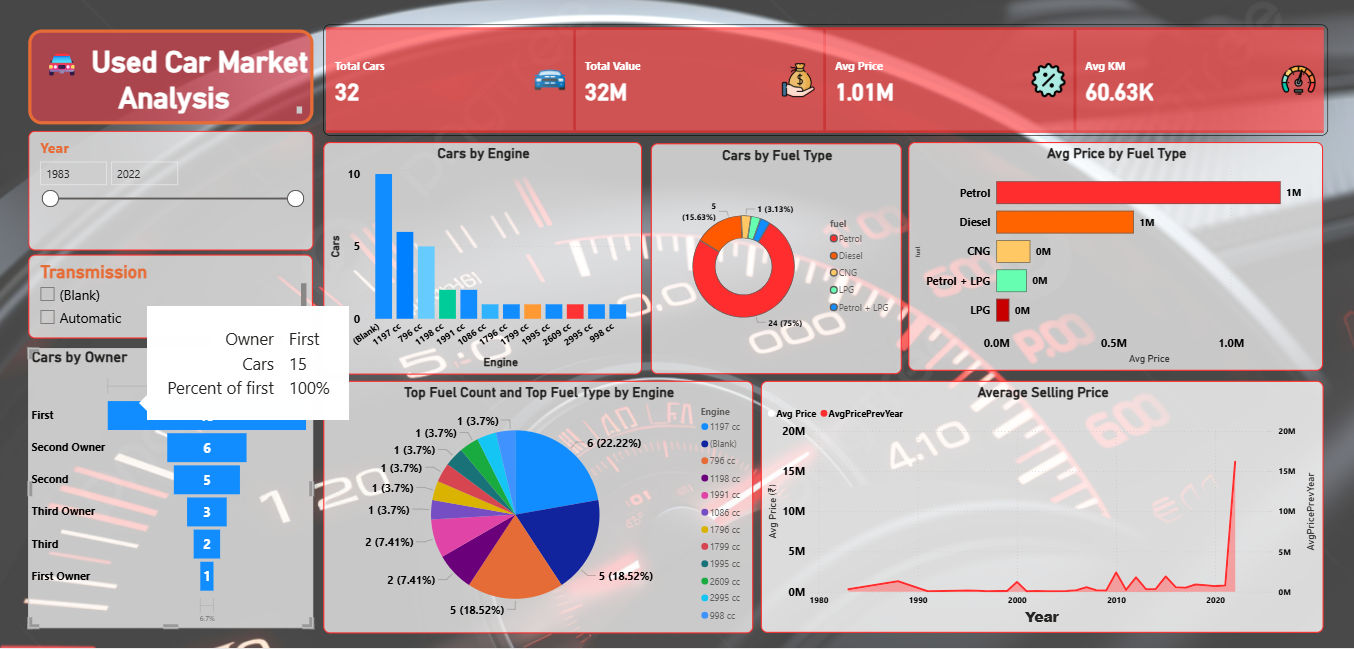

This screenshot's page, from the dashboard's own definition file:
{"tool":"powerbi","page":{"name":"Page 1","canvas":[2030,1020],"ordinal":0},"visuals":[{"type":"cardVisual","fields":{"Data":["all_cars.Total Cars","all_cars.Total Value","all_cars.Avg Price","all_cars.Avg KM"]},"box":[481.3,99.6,1482.7,164.1],"z":0},{"type":"lineChart","title":"Average Selling Price","fields":{"Category":["all_cars.Year"],"Y2":["all_cars.AvgPricePrevYear"],"Y":["all_cars.Avg Price"]},"box":[1126.7,625.6,830,372.2],"z":1000},{"type":"clusteredBarChart","title":"Avg Price by Fuel Type","fields":{"Category":["all_cars.fuel"],"Y":["all_cars.Avg Price"]},"box":[1344.4,272.9,612.2,337.5],"z":2000},{"type":"donutChart","title":"Cars by Fuel Type","fields":{"Category":["all_cars.fuel"],"Y":["all_cars.Total Cars"]},"box":[964.5,274.8,370.7,341.2],"z":3000},{"type":"slicer","fields":{"Values":["all_cars.Transmission"]},"box":[46,438,420,124],"z":4000},{"type":"slicer","fields":{"Values":["all_cars.Year"]},"box":[46,240,420,176],"z":5000},{"type":"pieChart","fields":{"Category":["all_cars.Engine"],"Y":["all_cars.Top Fuel Count"]},"box":[481.3,625.2,634.4,372.5],"z":6000},{"type":"lineStackedColumnComboChart","fields":{"Category":["all_cars.Engine"],"Y":["all_cars.Cars"]},"box":[481.3,272.9,470.3,343],"z":7000},{"type":"textbox","title":"🚘 Used Car Market Analysis","box":[46,100,420,140],"z":9000},{"type":"funnel","fields":{"Category":["all_cars.Owner"],"Y":["all_cars.Cars"]},"box":[46,578,420,412],"z":10000}]}

Visuals, with their boxes in screenshot pixels (x1, y1, x2, y2):
cardVisual - all_cars.Total Cars x all_cars.Total Value: 321:25:1321:135
"Average Selling Price" lineChart: 756:379:1316:630
"Avg Price by Fuel Type" clusteredBarChart: 903:142:1316:369
"Cars by Fuel Type" donutChart: 647:143:897:373
slicer - all_cars.Transmission: 27:253:311:337
slicer - all_cars.Year: 27:120:311:238
pieChart - all_cars.Engine x all_cars.Top Fuel Count: 321:379:749:630
lineStackedColumnComboChart - all_cars.Engine x all_cars.Cars: 321:142:638:373
"🚘 Used Car Market Analysis" textbox: 27:25:311:120
funnel - all_cars.Owner x all_cars.Cars: 27:347:311:625
